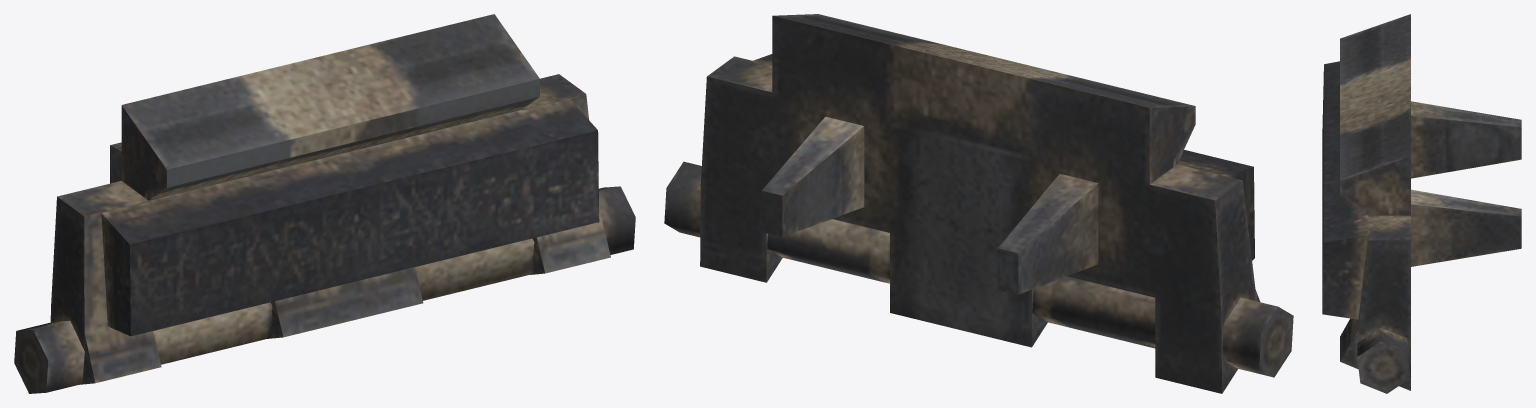
The picture shows the model from 3 angles, left to right: view 1: azimuth 30°, elevation 25°; view 2: azimuth 150°, elevation 25°; view 3: azimuth 270°, elevation 25°; orthographic projection. The views are drawn at different scales.
Parts seen in each view (by area): view 1: set_0_group_0; view 2: set_0_group_0; view 3: set_0_group_0.
Boxes of the visible parts, <box> form: set_0_group_0: <box>14,14,635,393</box>; set_0_group_0: <box>664,14,1293,393</box>; set_0_group_0: <box>1322,14,1521,393</box>.
Size of the model in its own units: 0.3052 by 0.1317 by 0.1146.
Materials: 1 (1 with a texture image).
